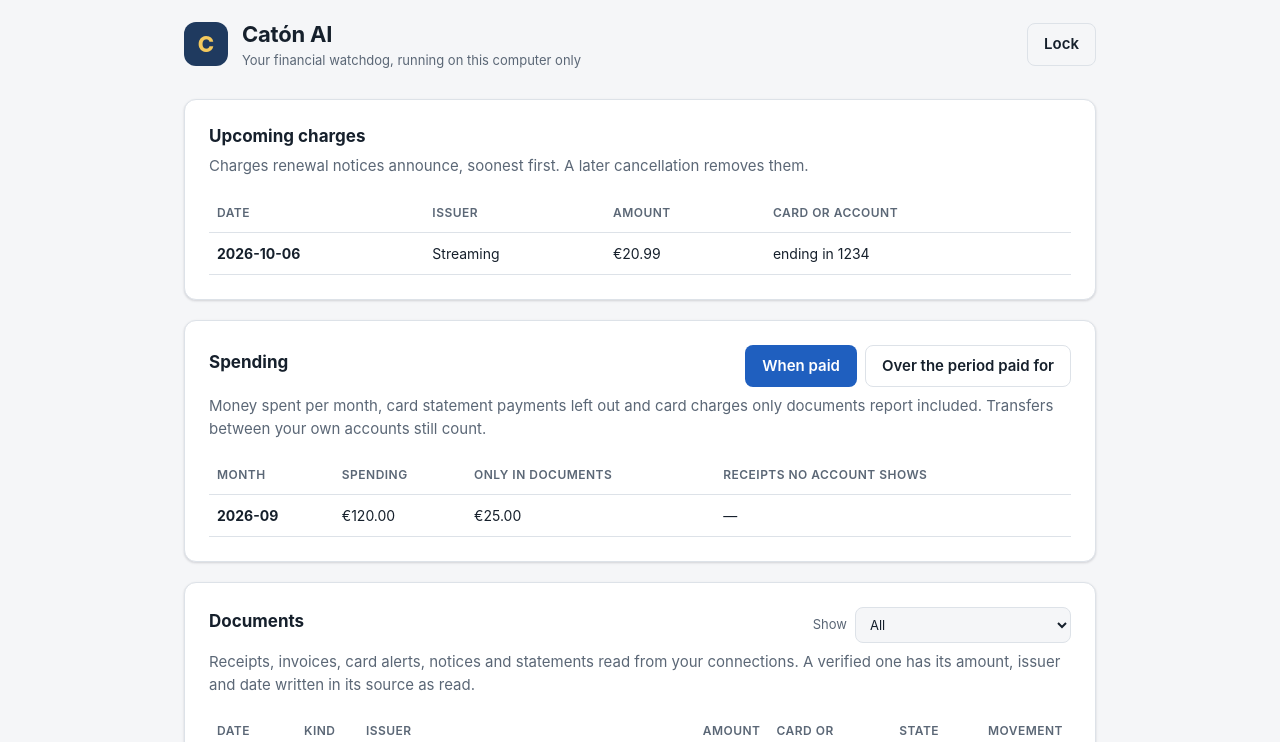
Test: the reports of the page › list documents with their state, filtered to what needs a look
expect the heading "Documents" is shown: met, box [209,609,304,635]
Select "To review" in the dropdown labelled "Show" at (963, 625), box [855,607,1071,643]
(page scrolled)
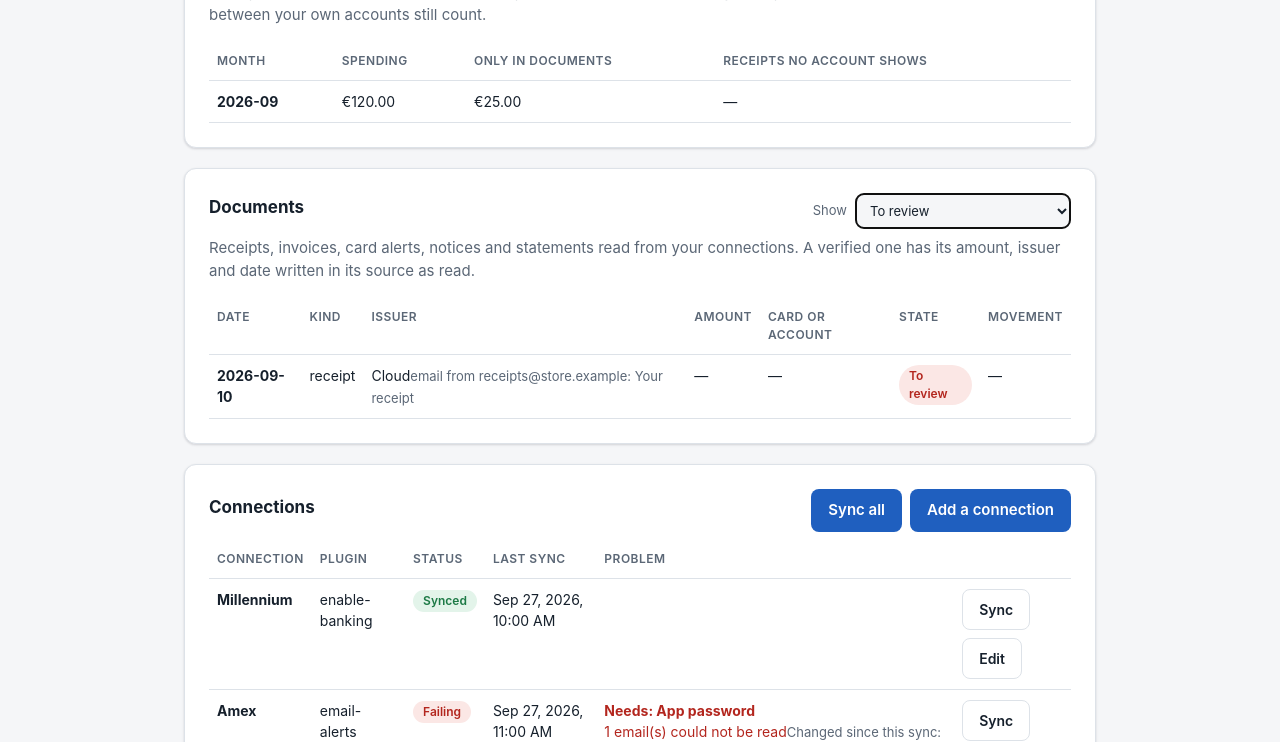
expect the text "Cloud" is shown: met, box [371,367,410,384]
